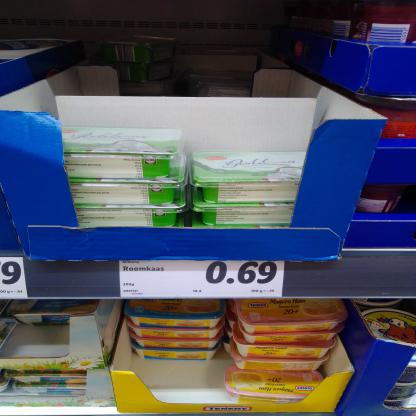prtg: (120, 262, 285, 298), (1, 258, 29, 299)
